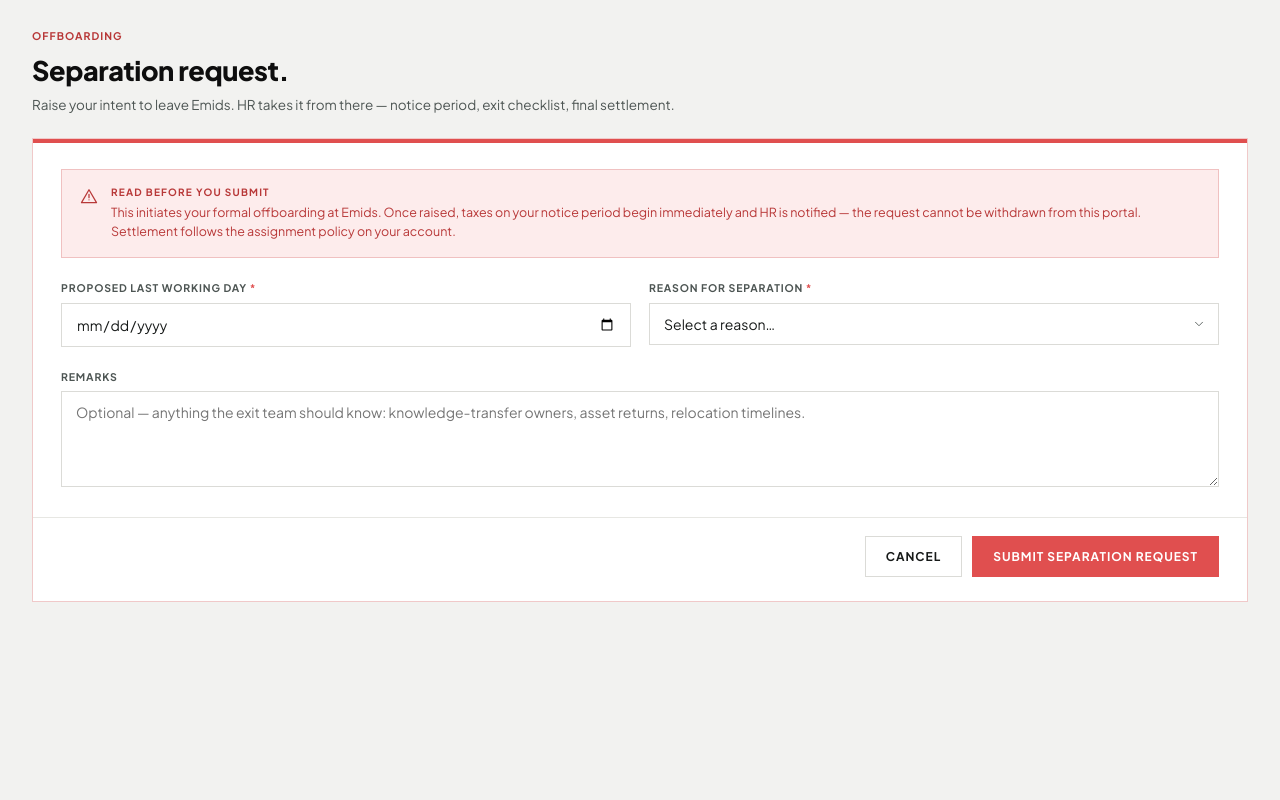
pages/SeparationRequest › requires a last working day and a reason
This screenshot has width=1280, height=800.
Click the button "Submit Separation Request" at (1096, 557), box [972,536,1219,577]
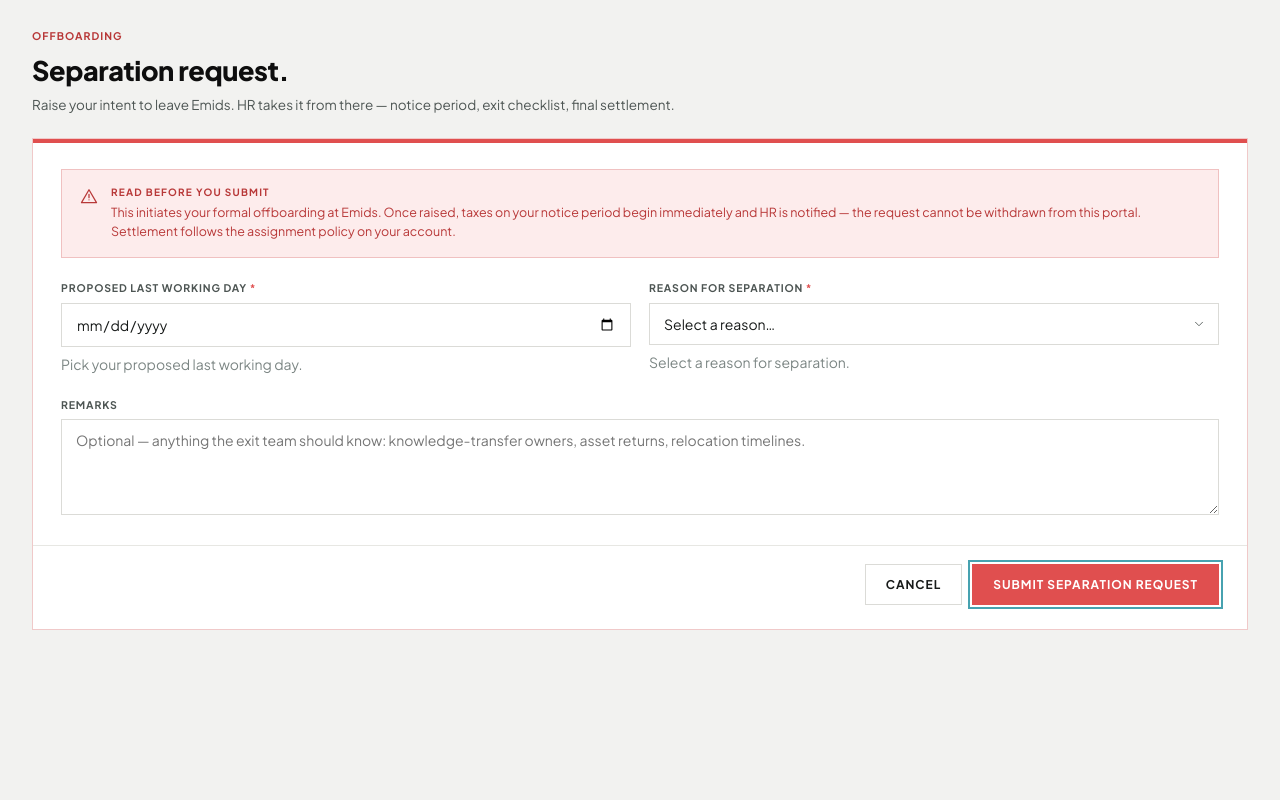
Expected: the text "Pick your proposed last working day." is shown, [61,354,302,372]
Expected: the text "Select a reason for separation." is shown, [649,352,850,370]
